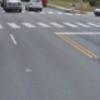cars: (25, 0, 44, 12), (92, 9, 99, 20)
crosswalks: (0, 20, 100, 32)
